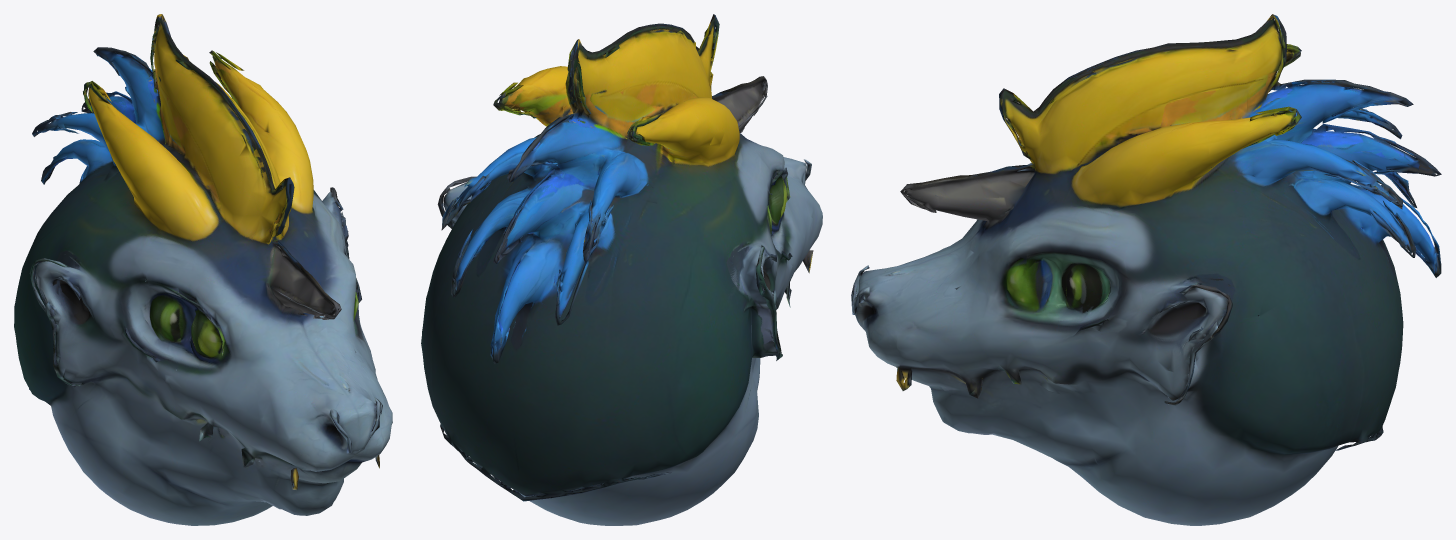
The model's file is Jekk_Commander.glb.
The picture shows the model from 3 angles, left to right: view 1: azimuth 30°, elevation 25°; view 2: azimuth 150°, elevation 25°; view 3: azimuth 270°, elevation 25°; orthographic projection. The views are drawn at different scales.
Size of the model in its own units: 1.26 by 1.85 by 1.99.
Materials: 1 (1 with a texture image).
